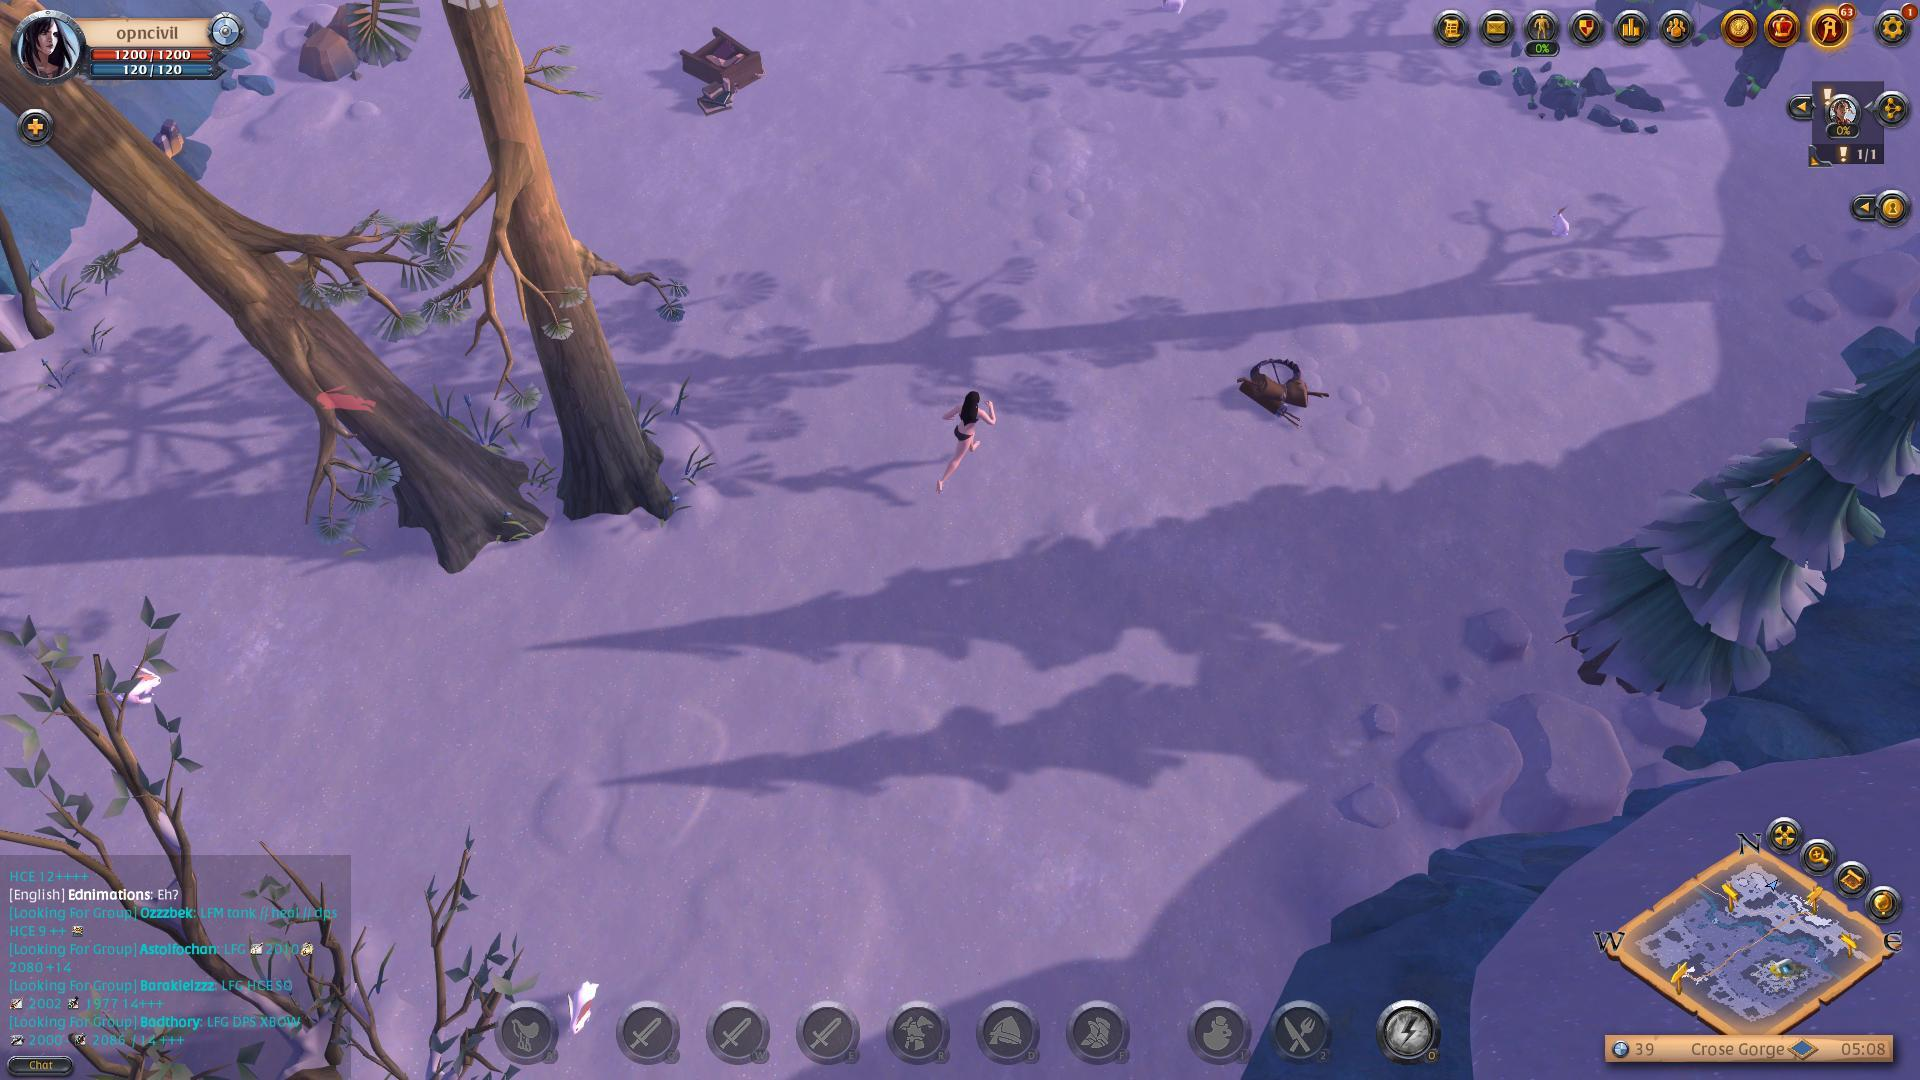copper_ore: (154, 116, 218, 177)
cotton: (8, 820, 123, 889)
